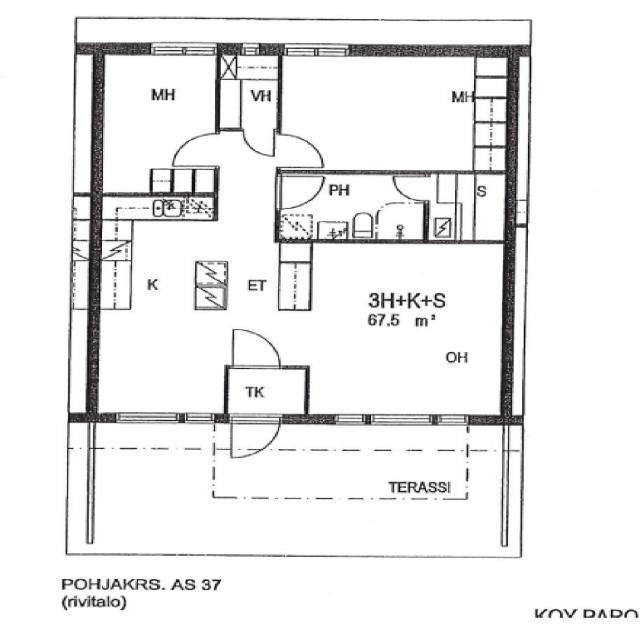door: (232, 412, 280, 460), (233, 328, 280, 368), (276, 134, 324, 167), (173, 133, 221, 166), (276, 176, 324, 208), (392, 176, 429, 200), (243, 128, 274, 155)
